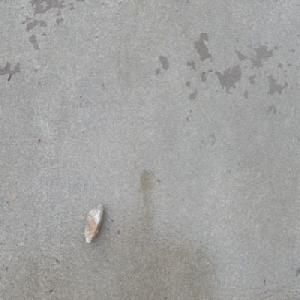Rock: (84, 201, 104, 245)
